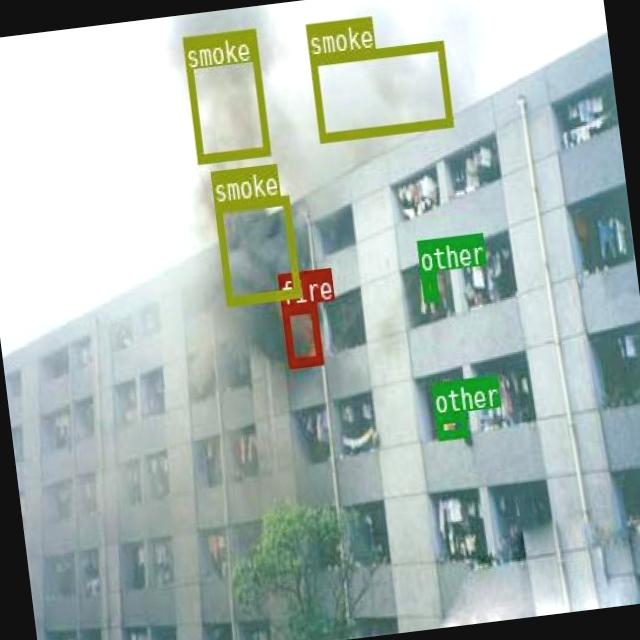fire: (280, 302, 322, 368)
smoke: (308, 38, 451, 142), (180, 27, 268, 161), (213, 194, 300, 304)
